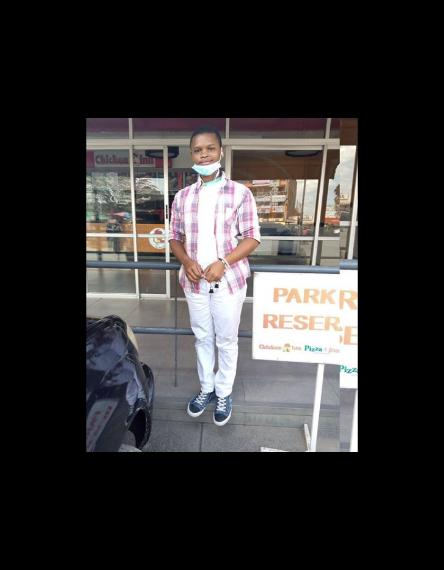mask_weared_incorrect: (191, 141, 223, 178)
